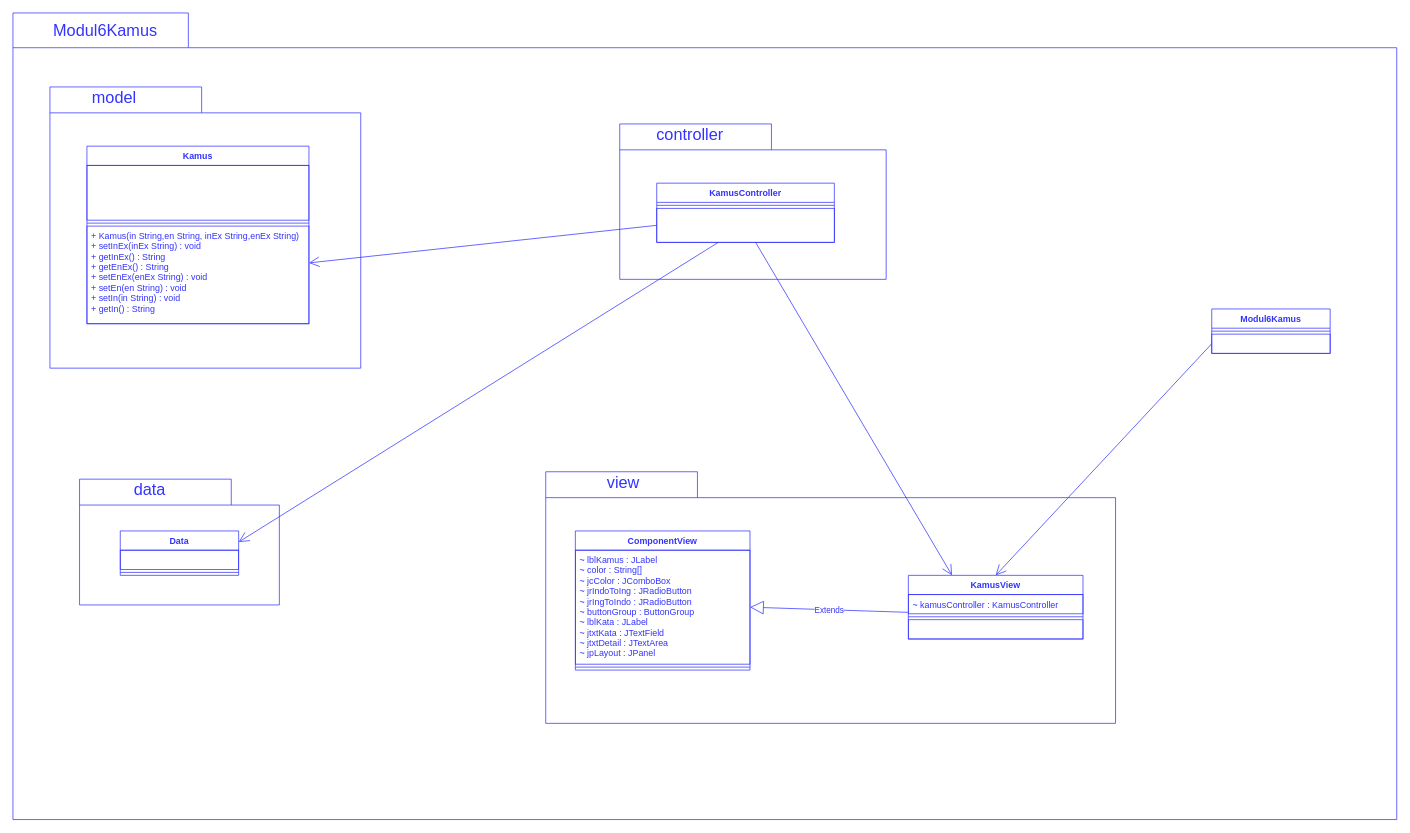
Image size: 1410x833. Some labels were removed from this diagram. The centre of each missing label's shape, as x and y in pixels:
"+ insertDataKamus() : void + searchWord(q String, status int) : String" belongs at (745,225).
"+ kamusArr : ArrayList" belongs at (179,559).
"+ KamusView()" belongs at (995,629).
"+ main(args String[]) : void" belongs at (1270,343).
"- in : String - inEx : String - en : String - enEx : String" belongs at (197,192).
